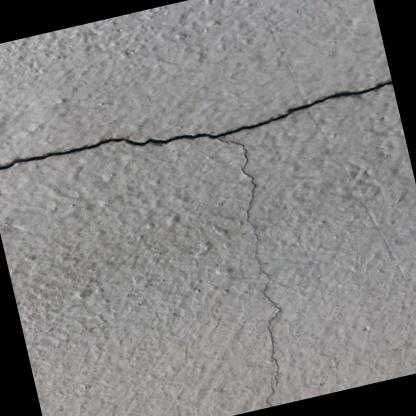crack: (0, 80, 393, 408)
